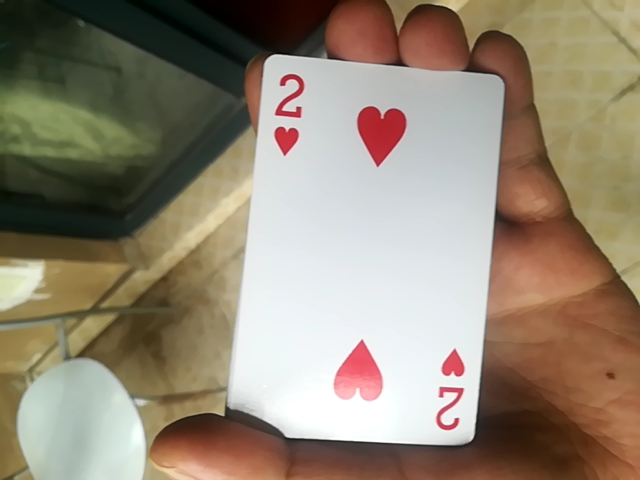hx 2: (235, 41, 506, 446)
